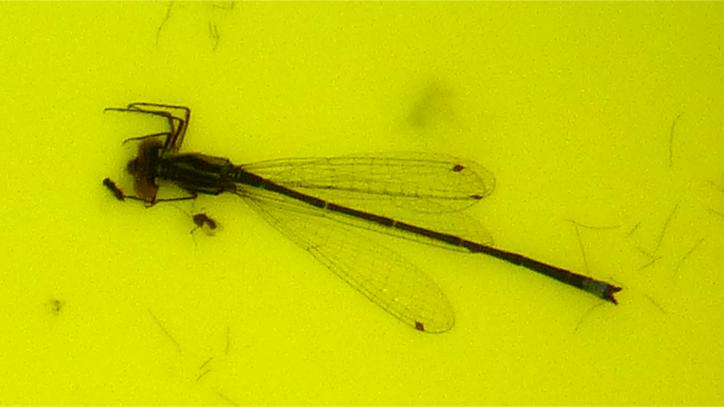Brachycera: (189, 210, 219, 234)
Hymenoptera: (98, 174, 129, 204)
Odonata: (100, 100, 624, 307)
